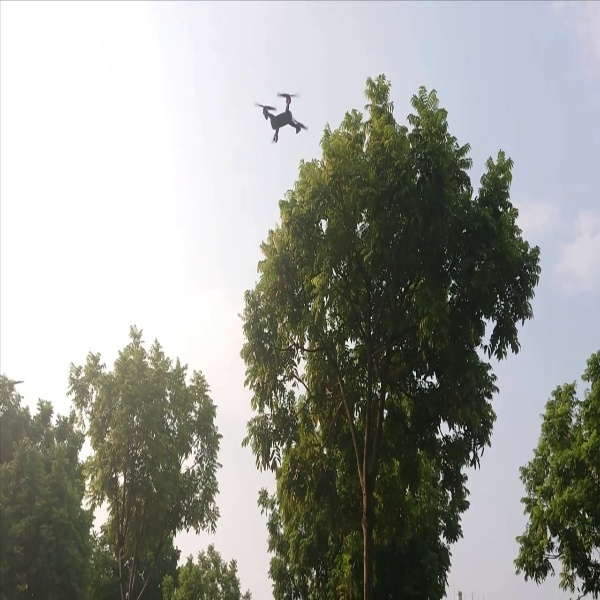drone: (247, 82, 313, 149)
